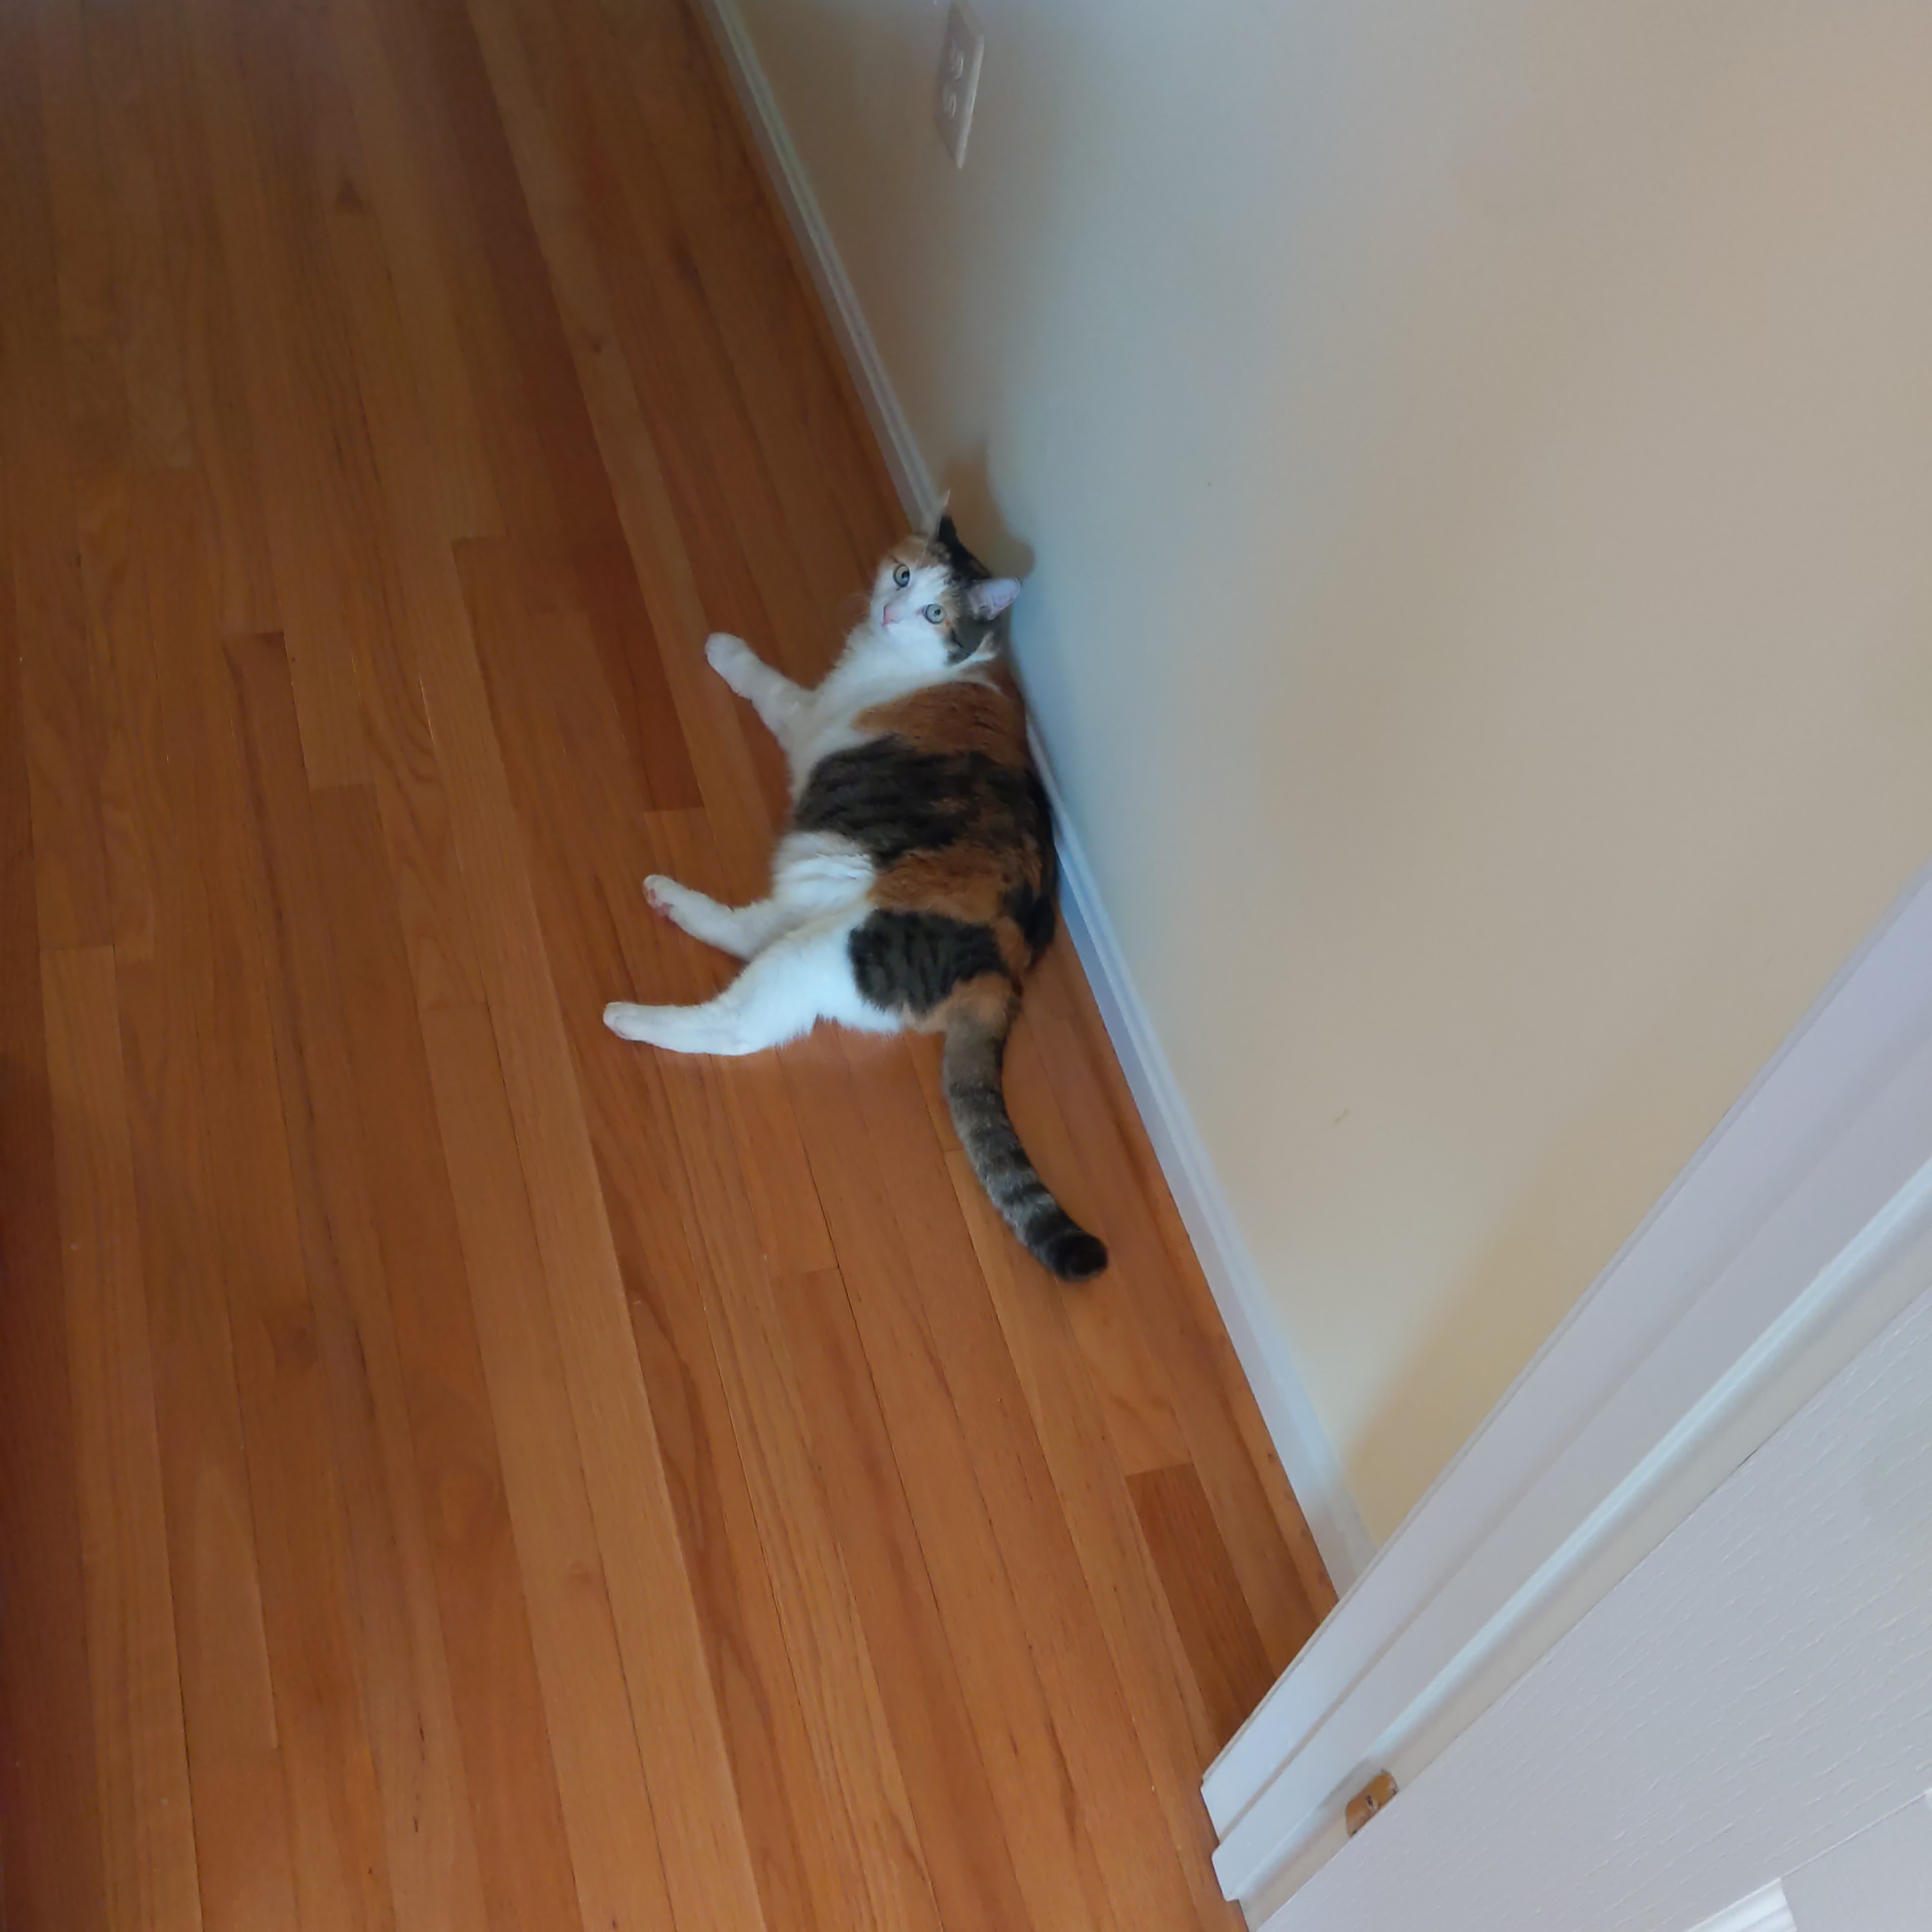Calico: (602, 488, 1109, 1283)
